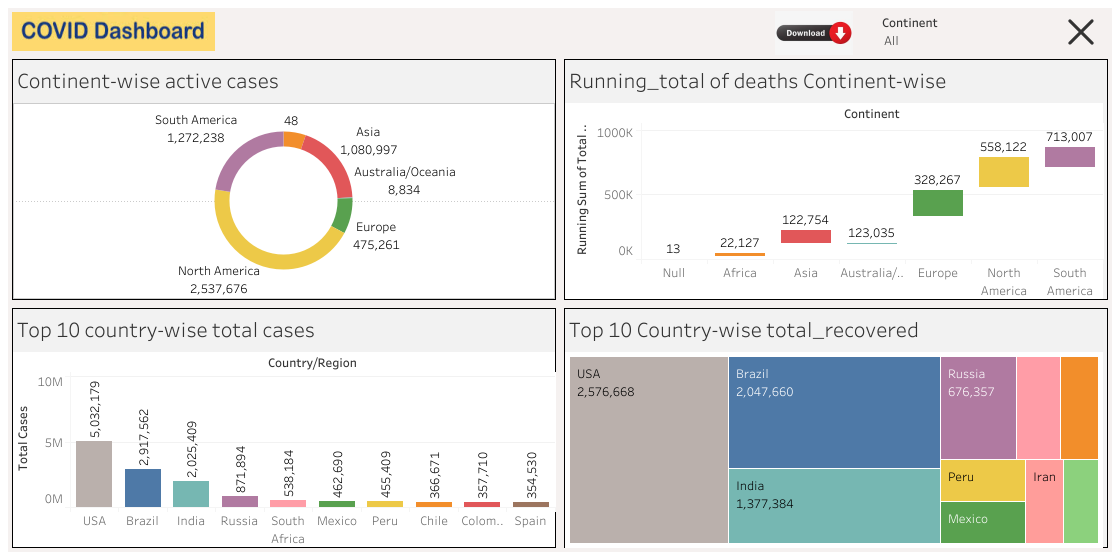

Layout of this report page (visuals, bound fields, positions):
{"tool":"tableau","page":{"name":"Dashboard 1","canvas":[1000,1000],"units":"permille","ordinal":0},"visuals":[{"type":"image","param":"Image/Capture.PNG","box":[7.1,13.5,202.7,84.3]},{"type":"text","box":[209.8,13.5,783,84.3]},{"type":"dashboard-object","box":[688.4,20.2,77.7,77.6]},{"type":"filter","title":"Running_total of deaths Continent-wise ","param":"[federated.006cpl30anznux1ddbcoz1mjhwt9].[none:Continent:nk]","box":[787.5,21.9,150,69.1]},{"type":"blank","box":[940.2,21.9,49.1,72.5]},{"type":"dashboard-object","box":[946.4,23.6,37.5,67.5]},{"type":"worksheet","title":"Continent-wise active cases","mark":"Pie","rows":["Calculation_363665733625286658","Calculation_363665733625319428"],"box":[7.1,97.8,492.9,444.4]},{"type":"worksheet","title":"Running_total of deaths Continent-wise ","mark":"GanttBar","rows":["TotalDeaths"],"cols":["Continent"],"box":[500,97.8,492.9,444.4]},{"type":"worksheet","title":"Top 10 country-wise total cases","mark":"Automatic","rows":["TotalCases"],"cols":["Country/Region"],"box":[7.1,542.2,492.9,444.3]},{"type":"worksheet","title":"Top 10 Country-wise total_recovered","mark":"Automatic","box":[500,542.2,492.9,444.3]}]}

Visuals, with their boxes on the dashboard's canvas, which has no fixed pixel size, in thousandths of its width and height (x1, y1, x2, y2). These are canvas units, not pixel positions in the 1119x559 screenshot, which may show the page scaled, cropped or inside an application window:
image: region(7, 14, 210, 98)
text: region(210, 14, 993, 98)
dashboard-object: region(688, 20, 766, 98)
"Running_total of deaths Continent-wise " filter: region(788, 22, 938, 91)
blank: region(940, 22, 989, 94)
dashboard-object: region(946, 24, 984, 91)
"Continent-wise active cases" worksheet (Pie marks): region(7, 98, 500, 542)
"Running_total of deaths Continent-wise " worksheet (GanttBar marks): region(500, 98, 993, 542)
"Top 10 country-wise total cases" worksheet: region(7, 542, 500, 986)
"Top 10 Country-wise total_recovered" worksheet: region(500, 542, 993, 986)
